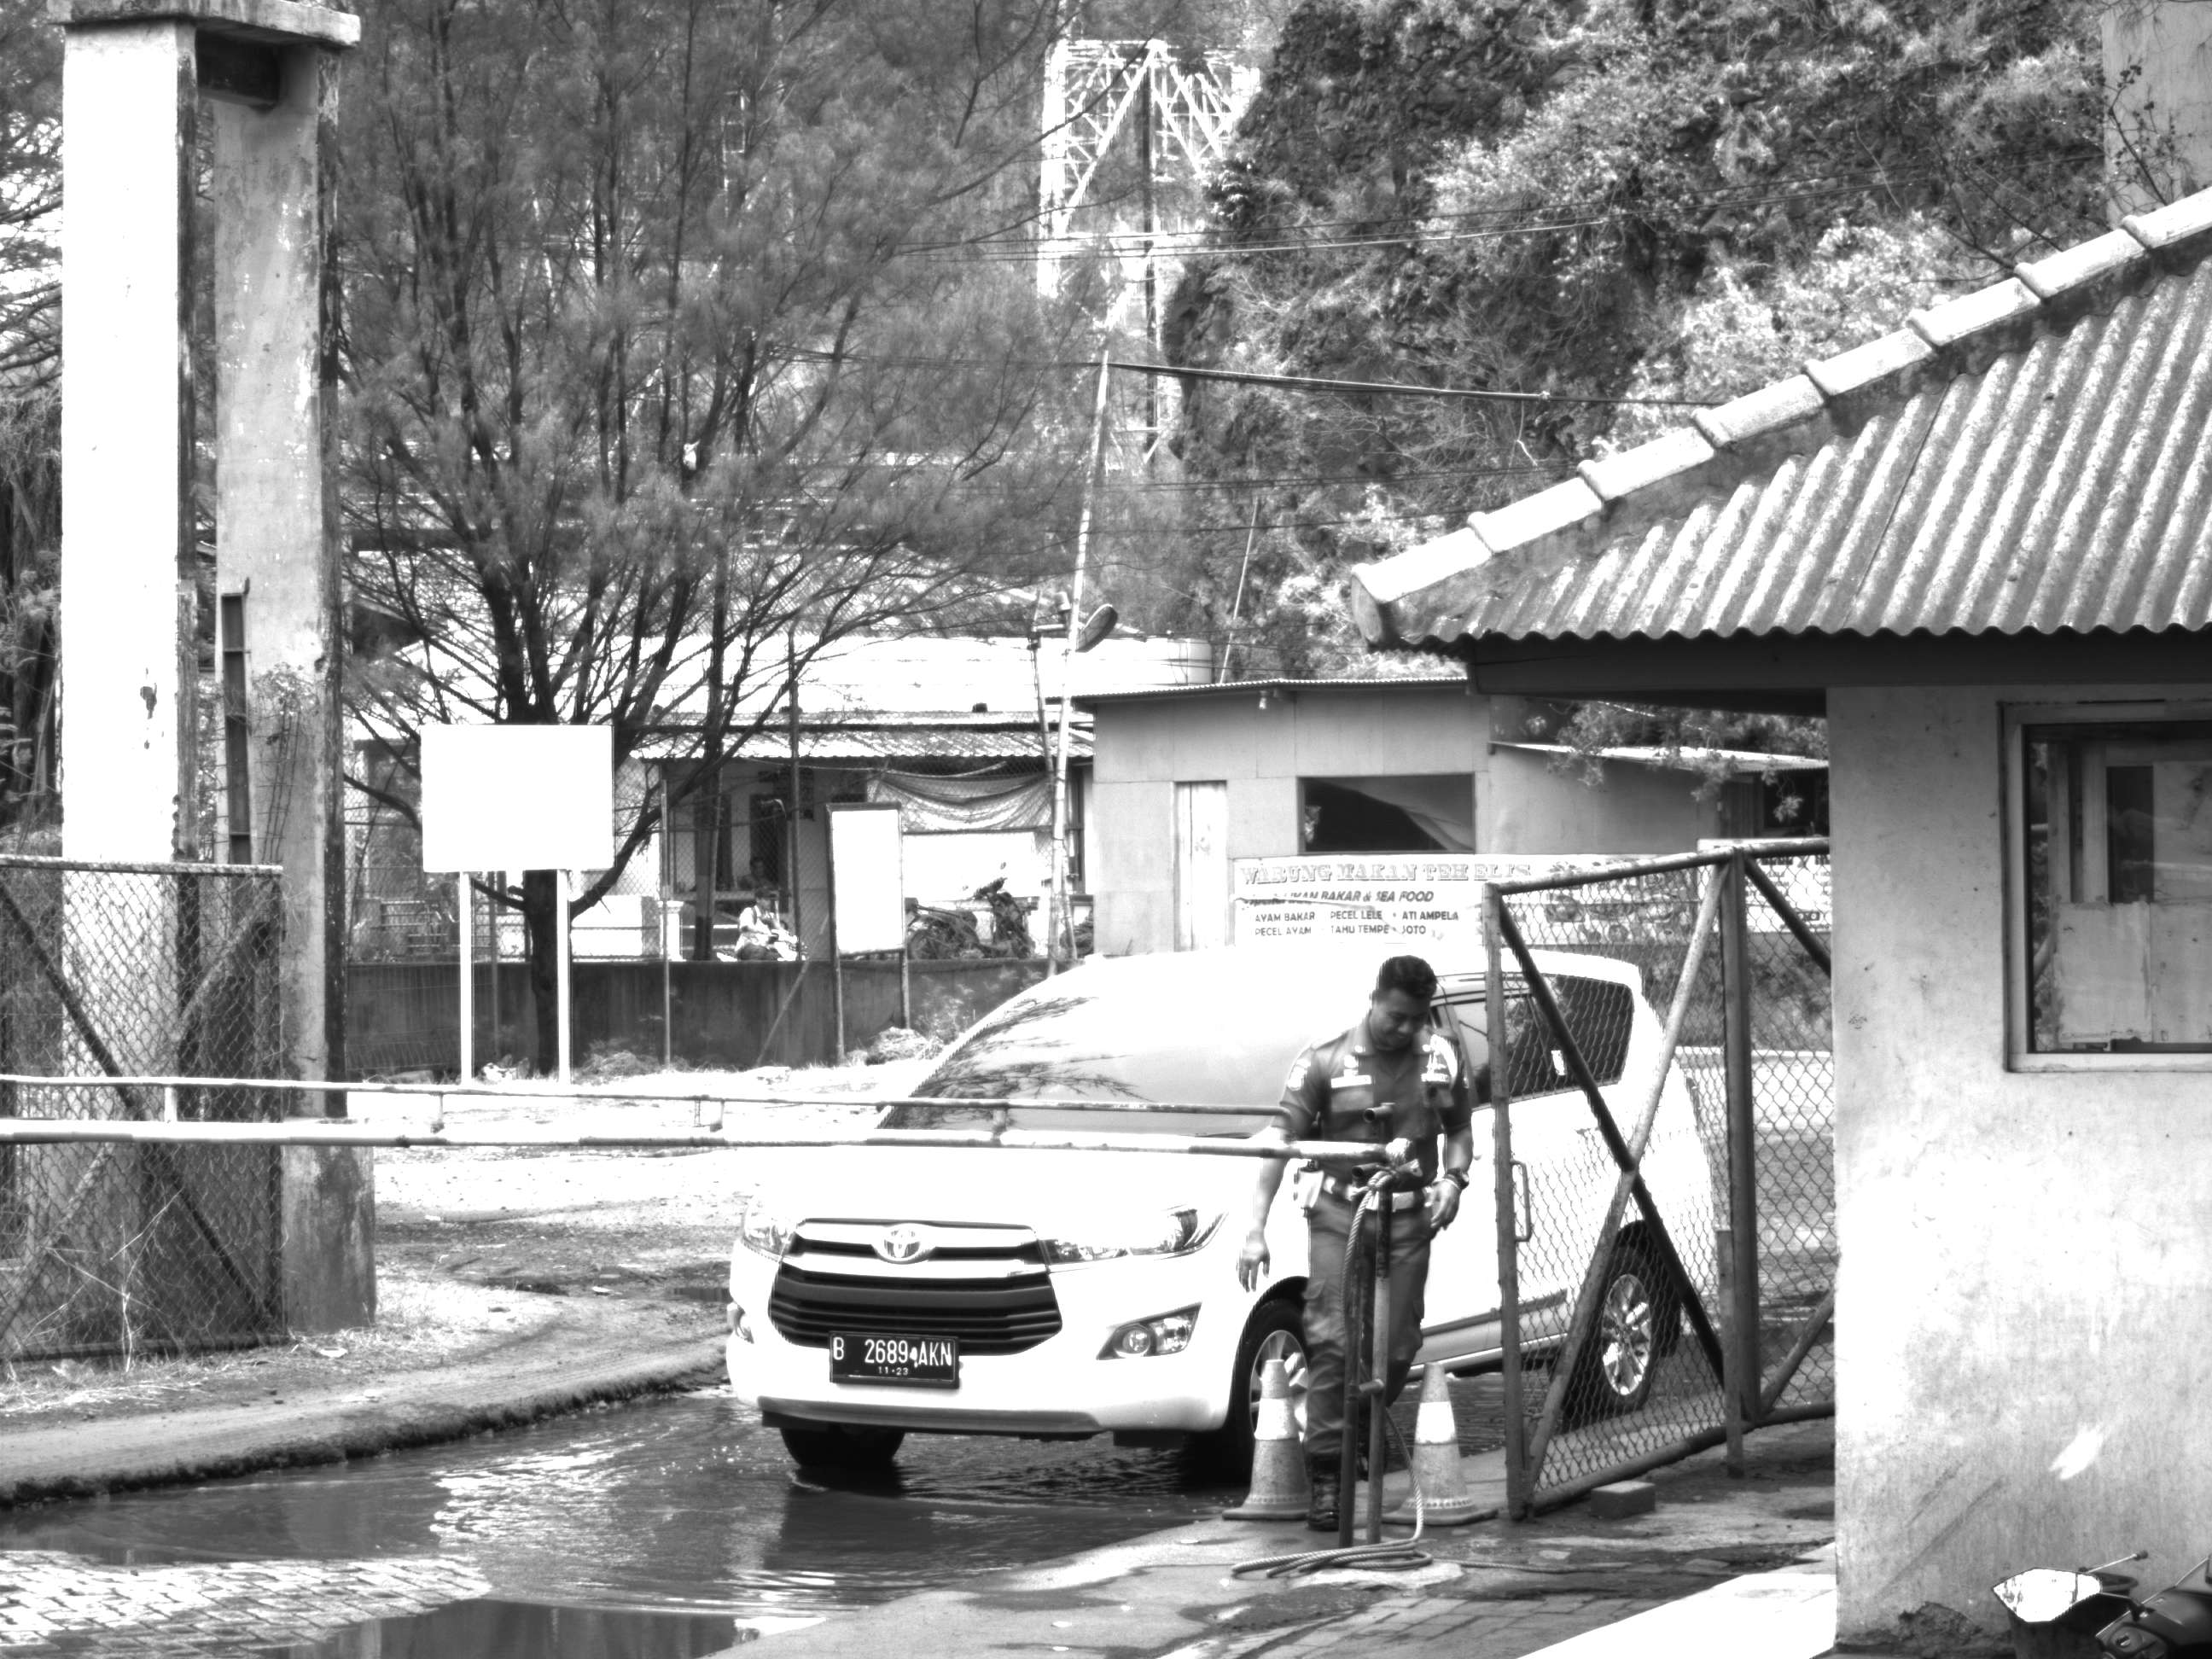day_small_front: (720, 930, 1367, 1481)
plate: (832, 1330, 964, 1385)
